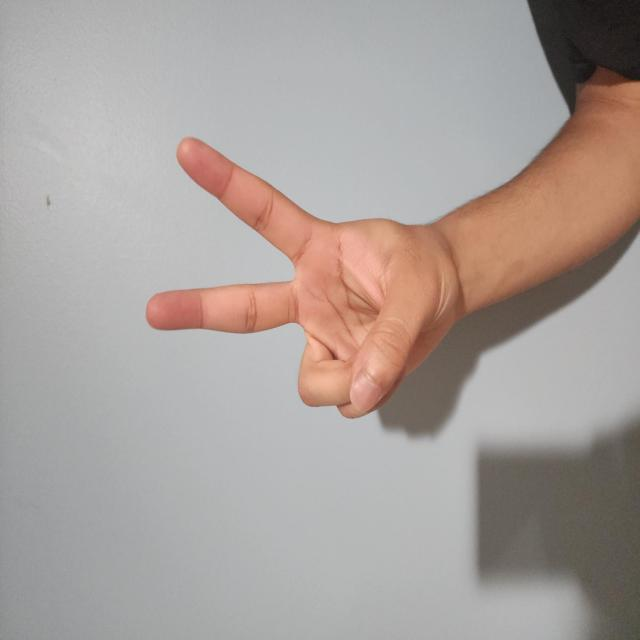V: (164, 188, 386, 630)
